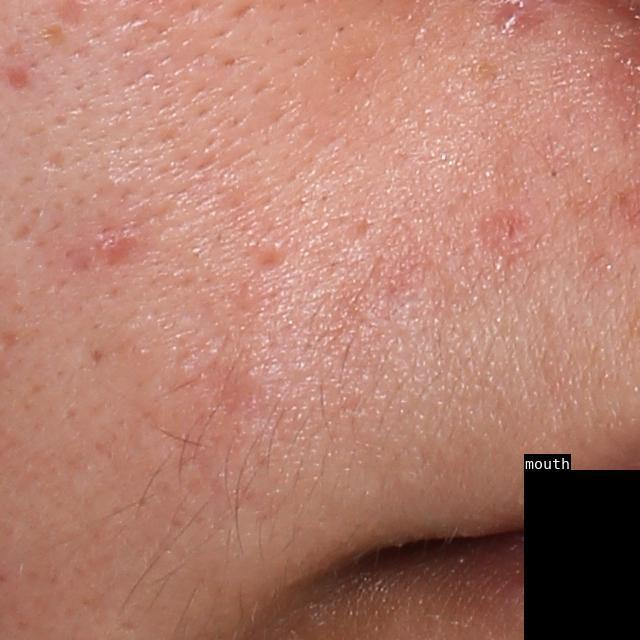atrophic_scar: (252, 249, 287, 272), (43, 149, 67, 173)
papule: (93, 229, 136, 269)
